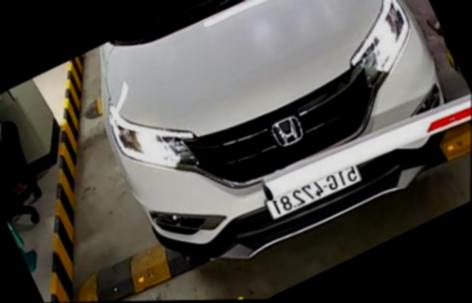License_Plate: (262, 160, 369, 223)
